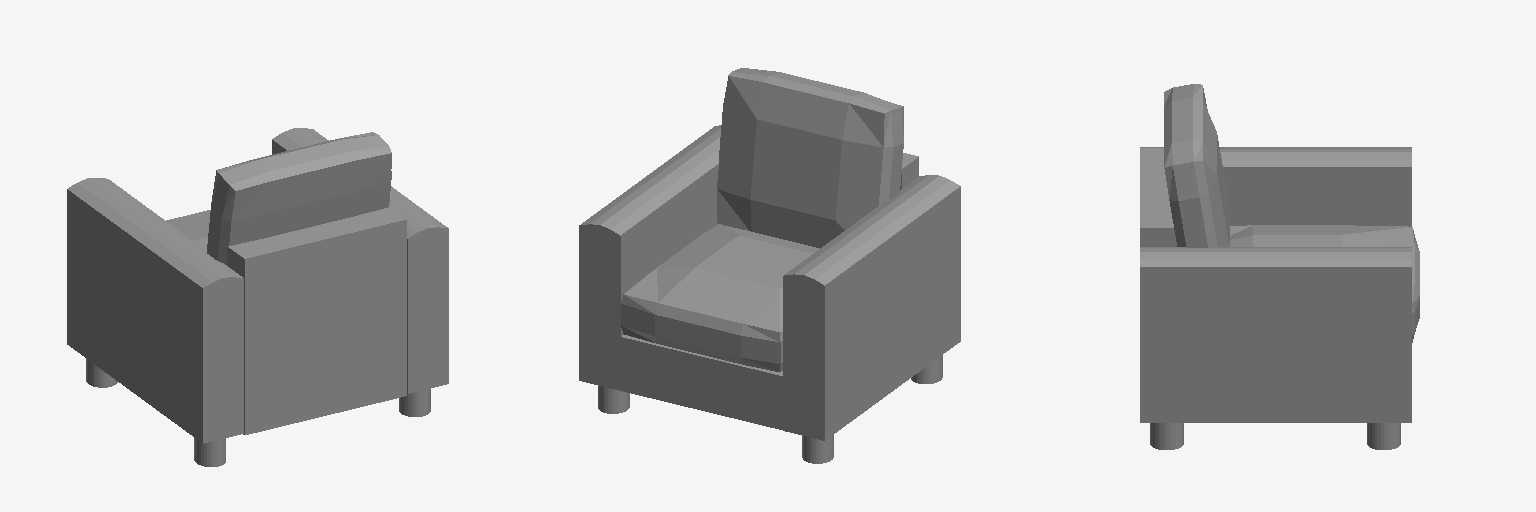
The model's file is simple_sofa_1.obj.
3 views of the same model, side by side, from view 1: azimuth 30°, elevation 25°; view 2: azimuth 150°, elevation 25°; view 3: azimuth 270°, elevation 25° (orthographic).
Parts seen in each view (by area): view 1: Cube.004; view 2: Cube.004; view 3: Cube.004.
Part boxes in pixels (x1,y1,x2,y2): Cube.004: (67,128,448,466); Cube.004: (579,68,960,463); Cube.004: (1140,84,1419,449).
Bounding box in the file's own units: 2.06 × 2.21 × 2.04.